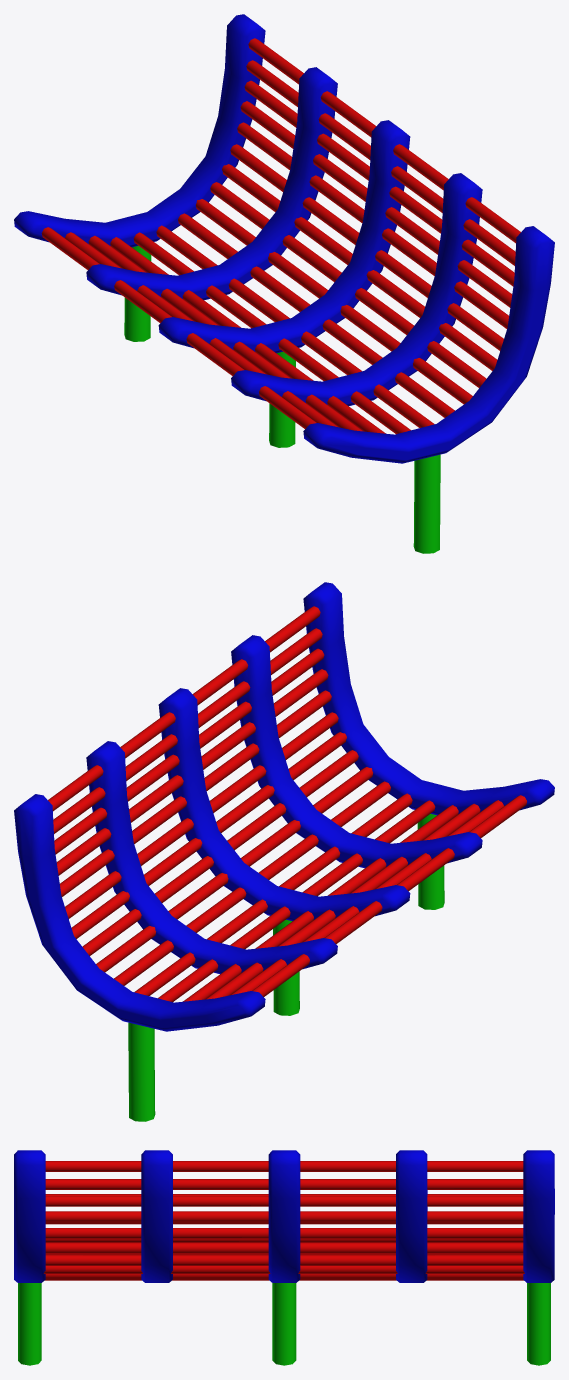
File: bench_low.fbx
The picture shows the model from 3 angles, top to bottom: view 1: azimuth 30°, elevation 25°; view 2: azimuth 150°, elevation 25°; view 3: azimuth 270°, elevation 25°; orthographic projection. The views are drawn at different scales.
Parts seen in each view (by area): view 1: bench_low; view 2: bench_low; view 3: bench_low.
Part boxes in pixels (bbox=[...]): bench_low: bbox=[14, 14, 554, 553]; bench_low: bbox=[14, 582, 554, 1121]; bench_low: bbox=[14, 1150, 554, 1365].
Size of the model in its own units: 190 by 222 by 425.
